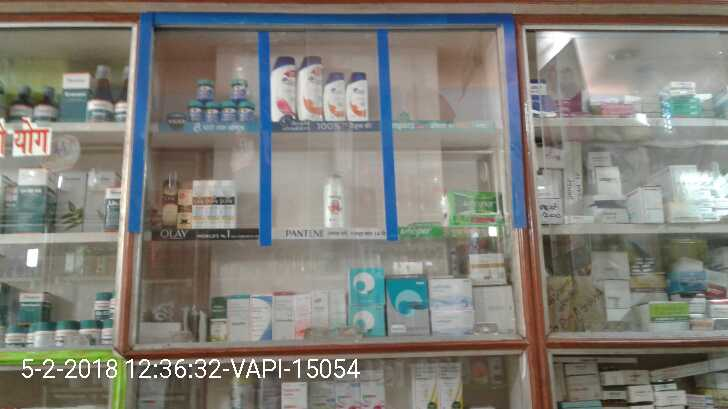vicks: (186, 73, 260, 129)
